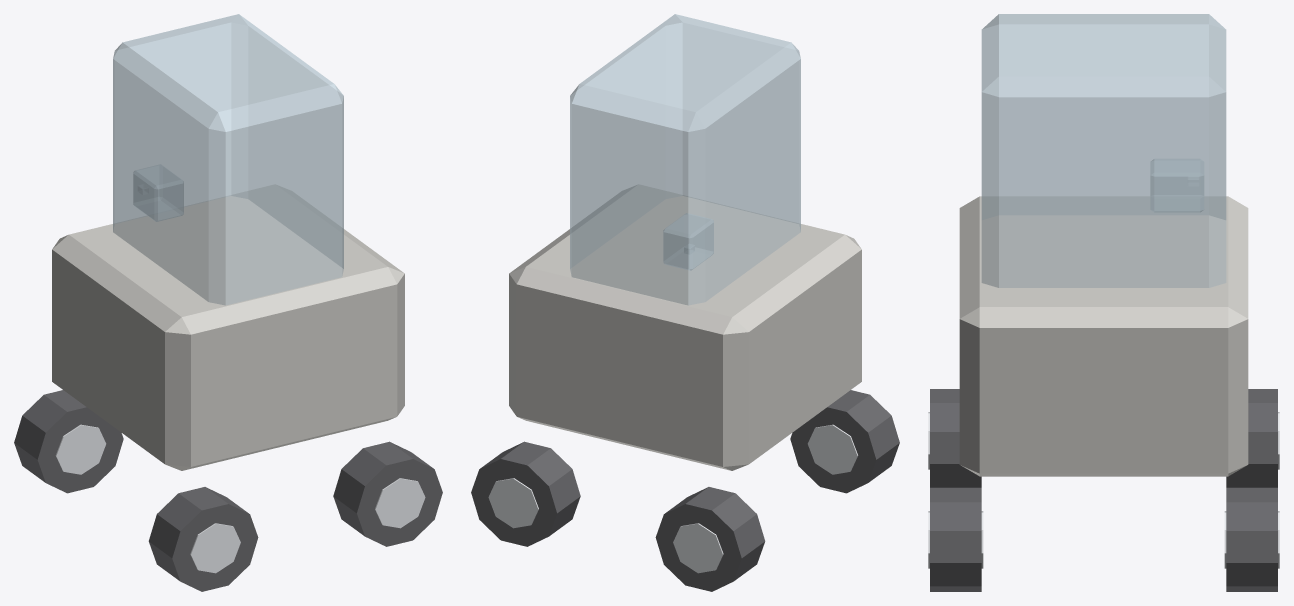
File: b07_crane_concrete_pouring_bucket.glb
3 renders of one model, left to right at view 1: azimuth 30°, elevation 25°; view 2: azimuth 150°, elevation 25°; view 3: azimuth 270°, elevation 25°, orthographic. The views are drawn at different scales.
Visible parts, largest first — view 1: b07_crane_concrete_pouring_bucket; view 2: b07_crane_concrete_pouring_bucket; view 3: b07_crane_concrete_pouring_bucket.
Part boxes in pixels (x1,y1,x2,y2): b07_crane_concrete_pouring_bucket: [14, 14, 442, 591]; b07_crane_concrete_pouring_bucket: [471, 14, 899, 591]; b07_crane_concrete_pouring_bucket: [928, 14, 1279, 591].
Bounding box in the file's own units: 1.67 × 2.62 × 1.7.
